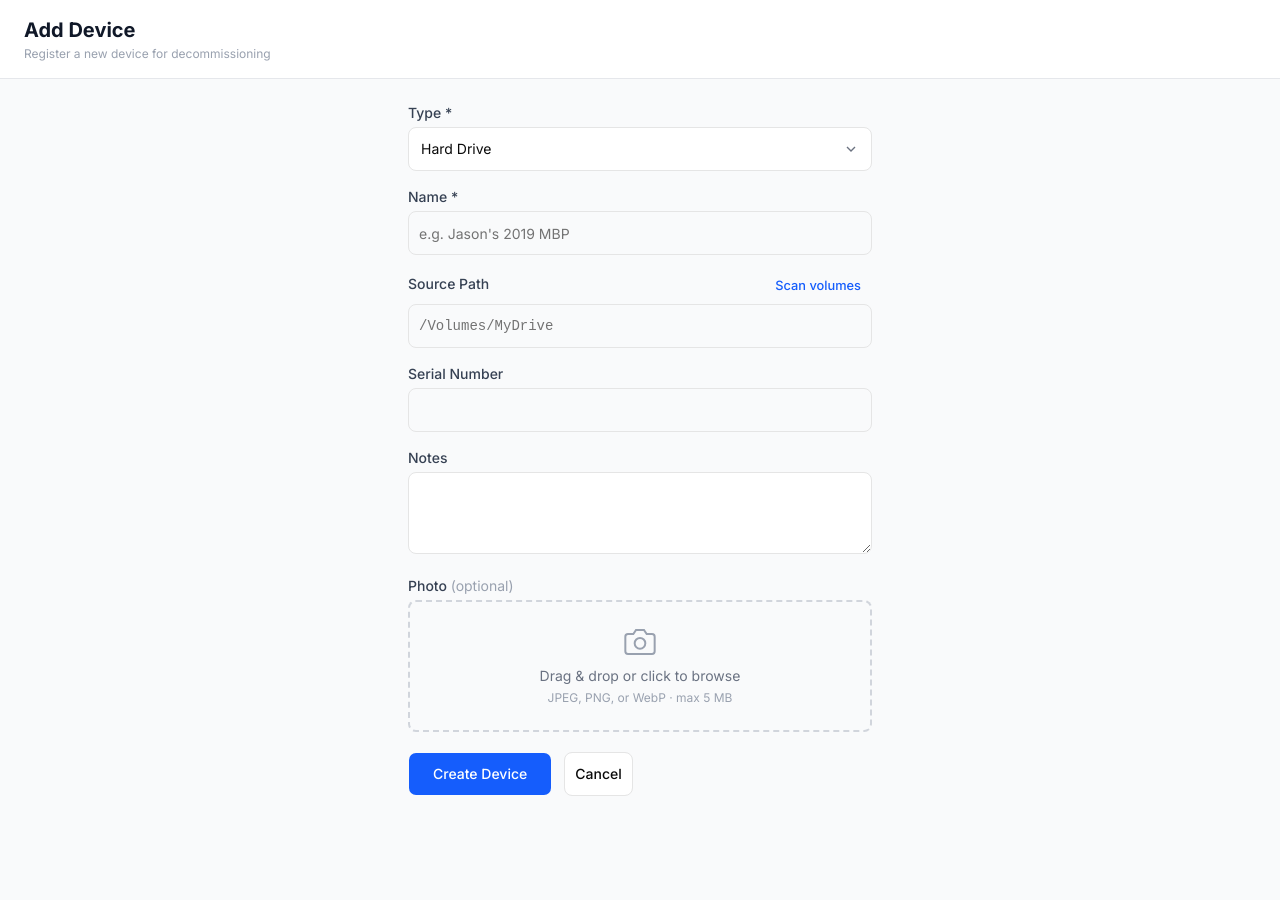
Test: AddDevice form › shows error when no device detected
Step 1. Select "iPhone" in the dropdown → x=640, y=149, box [408,127,872,171]
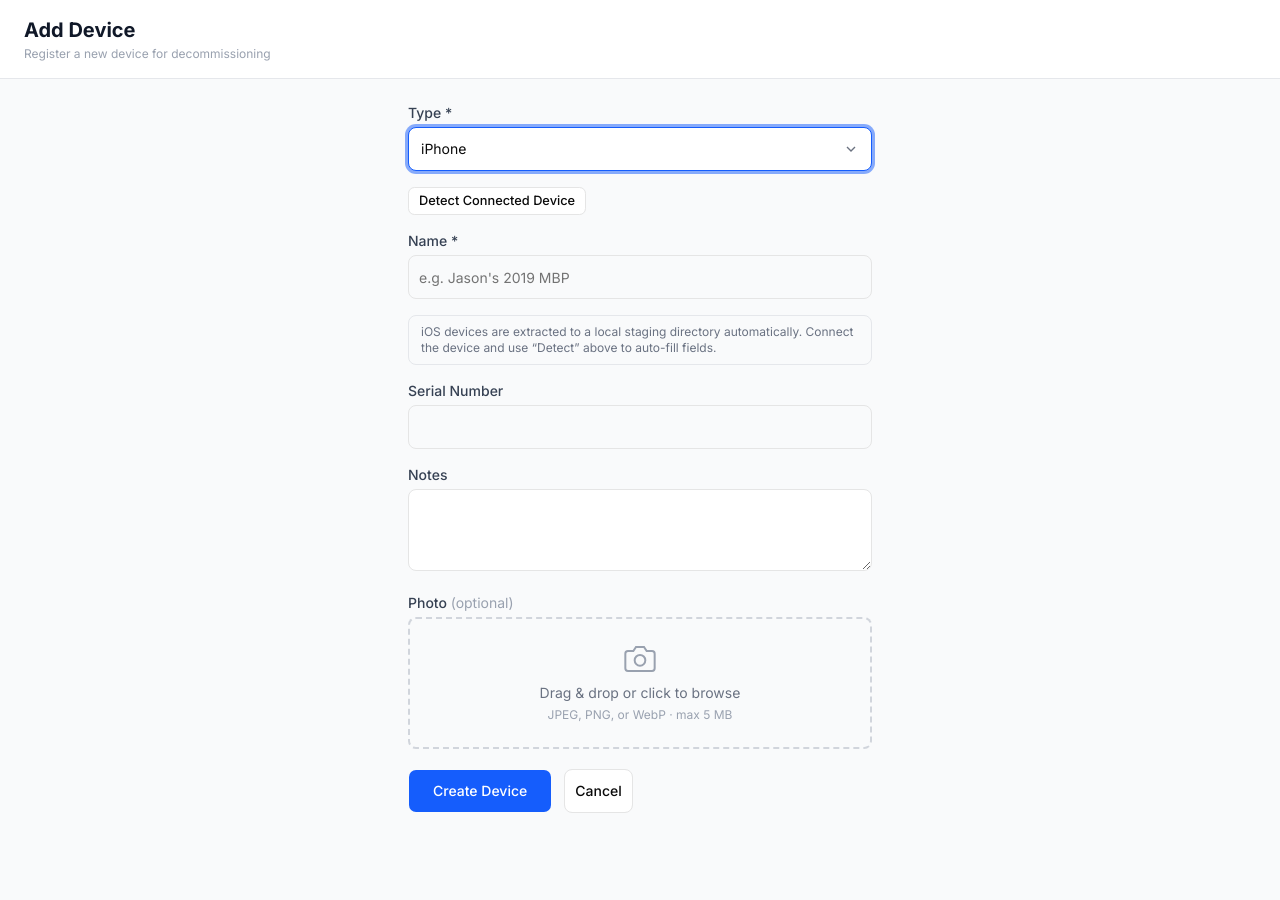
Step 2. Click the button "Detect Connected Device" → x=497, y=201, box [408,187,586,215]
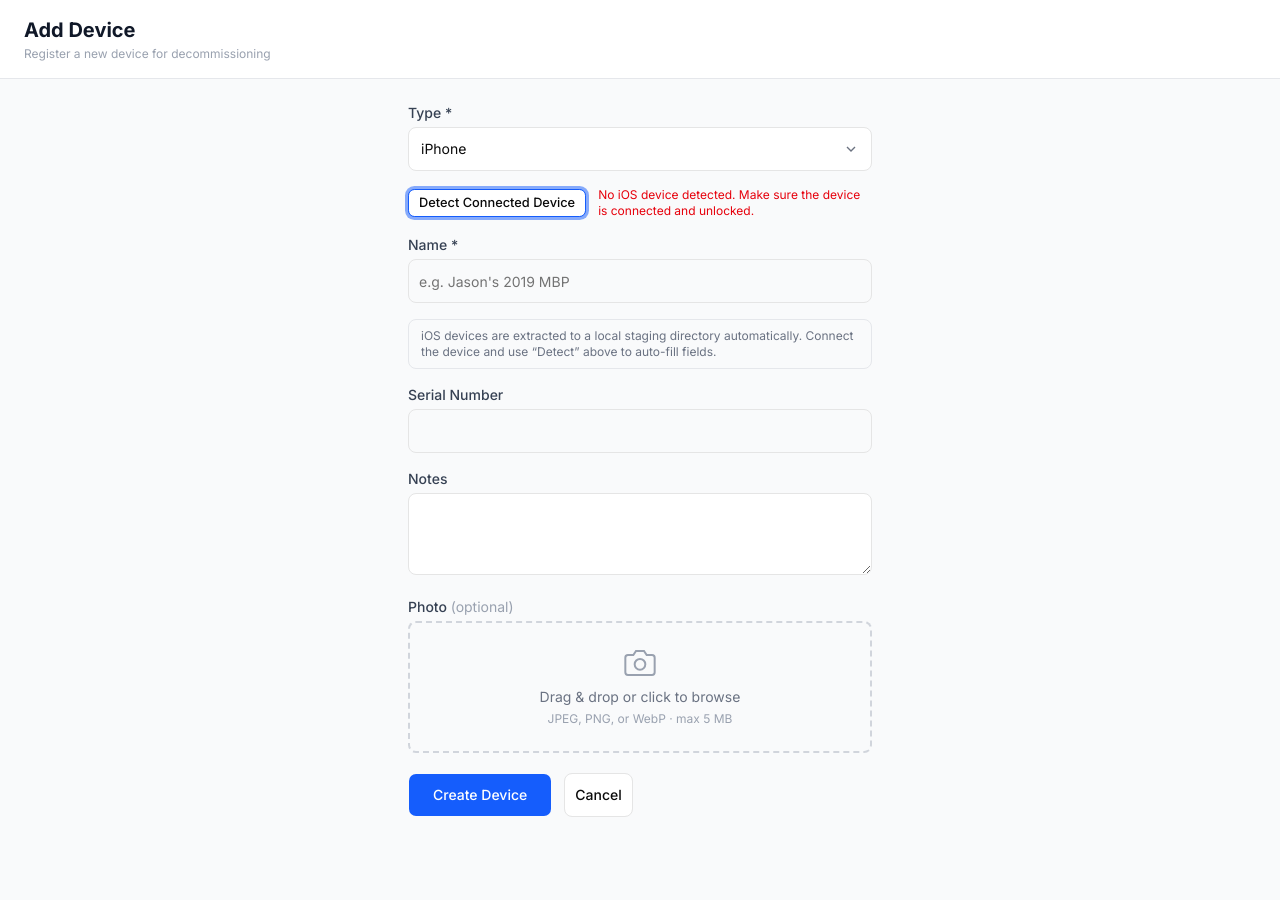
Now the text "No iOS device detected" is shown, box [598,187,860,218]
